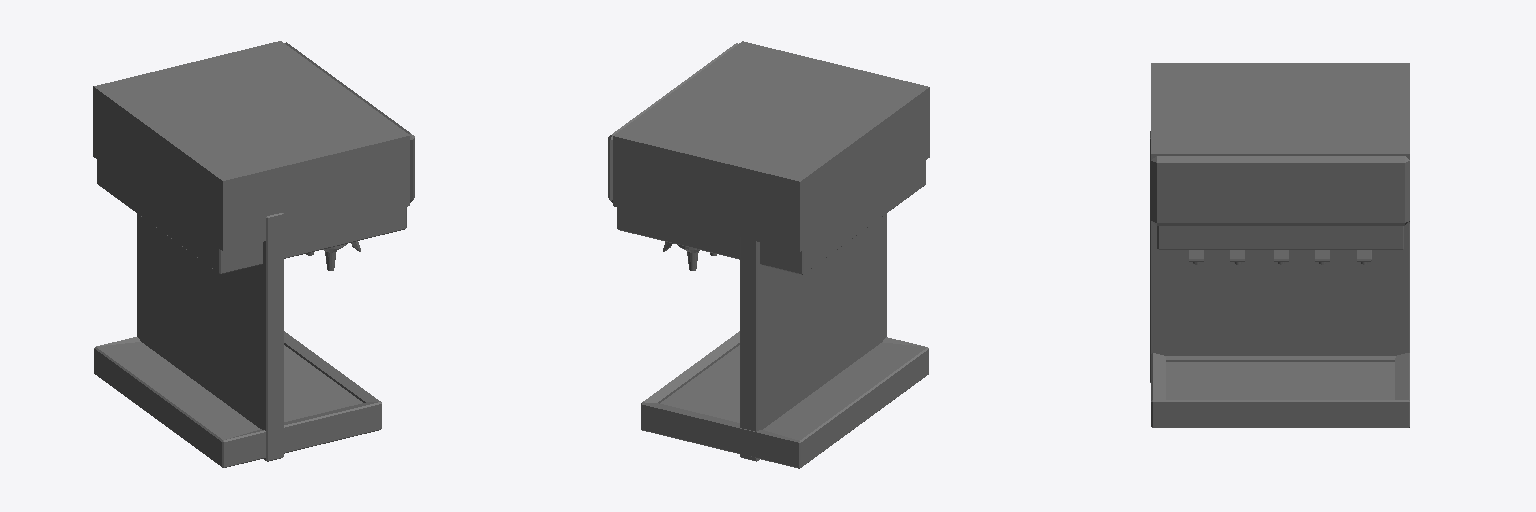
File: refrescos.obj
The picture shows the model from 3 angles: view 1: azimuth 30°, elevation 25°; view 2: azimuth 150°, elevation 25°; view 3: azimuth 270°, elevation 25°; orthographic projection.
Visible parts, largest first — view 1: pCube73; view 2: pCube73; view 3: pCube73.
Part boxes in pixels (x1,y1,x2,y2): pCube73: (93, 41, 414, 467); pCube73: (608, 41, 929, 468); pCube73: (1150, 63, 1409, 427).
Bounding box in the file's own units: 10.73 × 15.33 × 12.42.